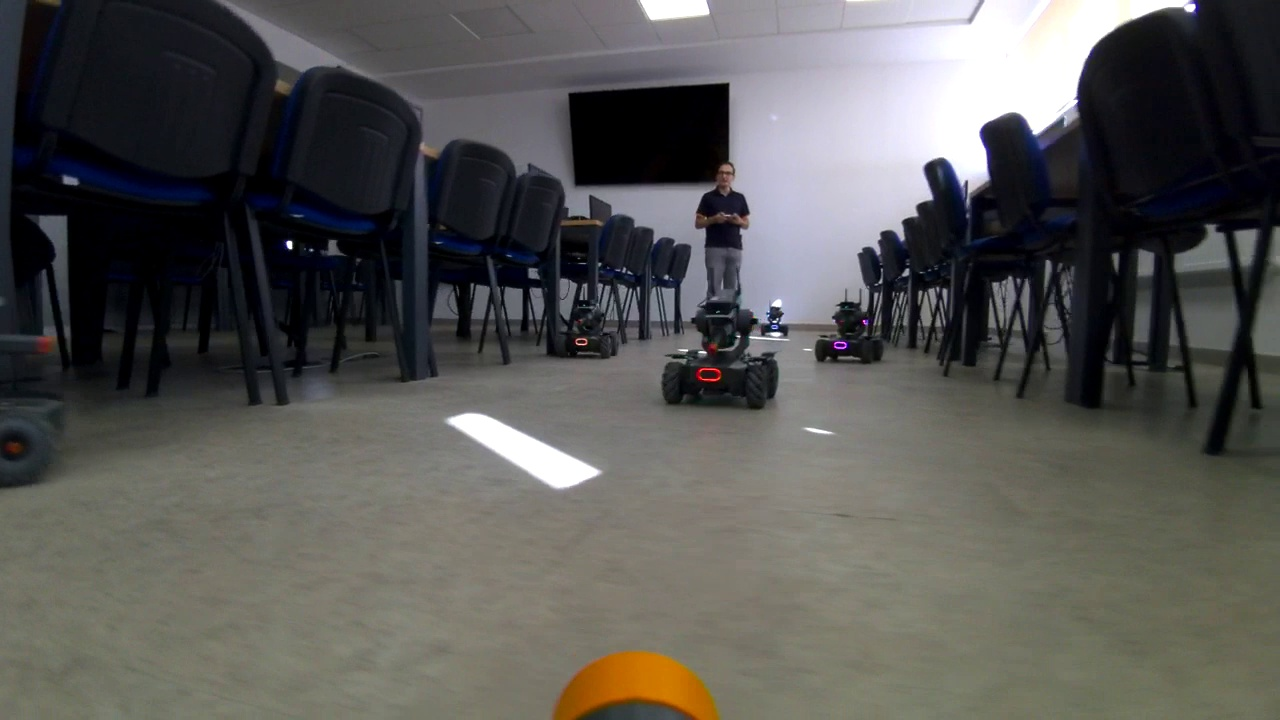robot: (657, 274, 779, 413), (814, 298, 884, 366), (549, 297, 620, 359), (758, 301, 798, 335)
